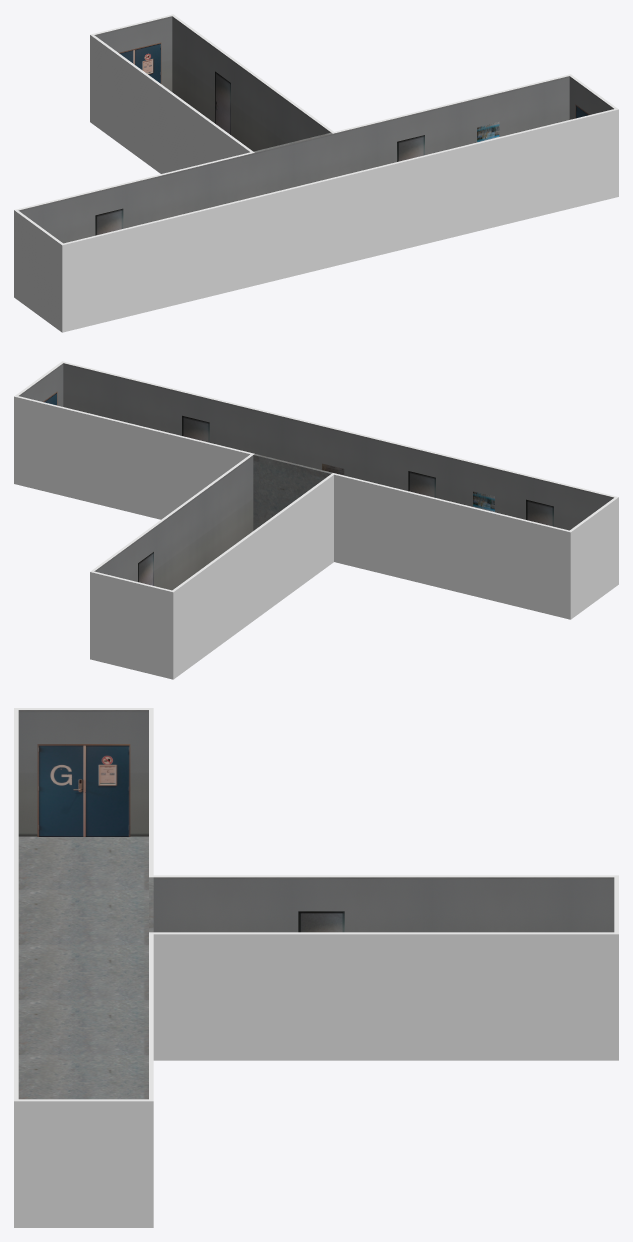
Rendered from hallway_closed_without_door.dae.
3 renders of one model, top to bottom at view 1: azimuth 30°, elevation 25°; view 2: azimuth 150°, elevation 25°; view 3: azimuth 270°, elevation 25°, orthographic. The views are drawn at different scales.
Visible parts, largest first — view 1: SketchUp (×3), instance_1, instance_9, instance_7, instance_6; view 2: SketchUp (×4), instance_5, instance_3, instance_4; view 3: SketchUp (×4), instance_0, instance_8.
Boxes of the visible parts, x1,y1,x2,y2 form: SketchUp (×3): (14, 14, 618, 332); instance_1: (119, 42, 161, 83); instance_9: (215, 71, 230, 134); instance_7: (95, 208, 123, 235); instance_6: (397, 135, 424, 161); SketchUp (×4): (14, 361, 618, 679); instance_5: (182, 415, 209, 442); instance_3: (526, 499, 553, 526); instance_4: (408, 471, 435, 497); SketchUp (×4): (14, 708, 618, 1227); instance_0: (37, 744, 130, 836); instance_8: (298, 911, 344, 932).
Bounding box in the file's own units: 787 × 512 × 118.
Materials: 7 (6 with a texture image).
